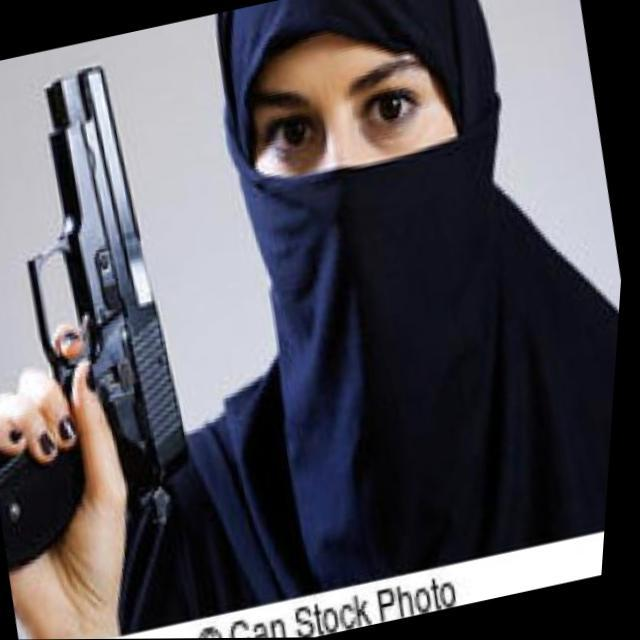weapon: (0, 39, 258, 584)
